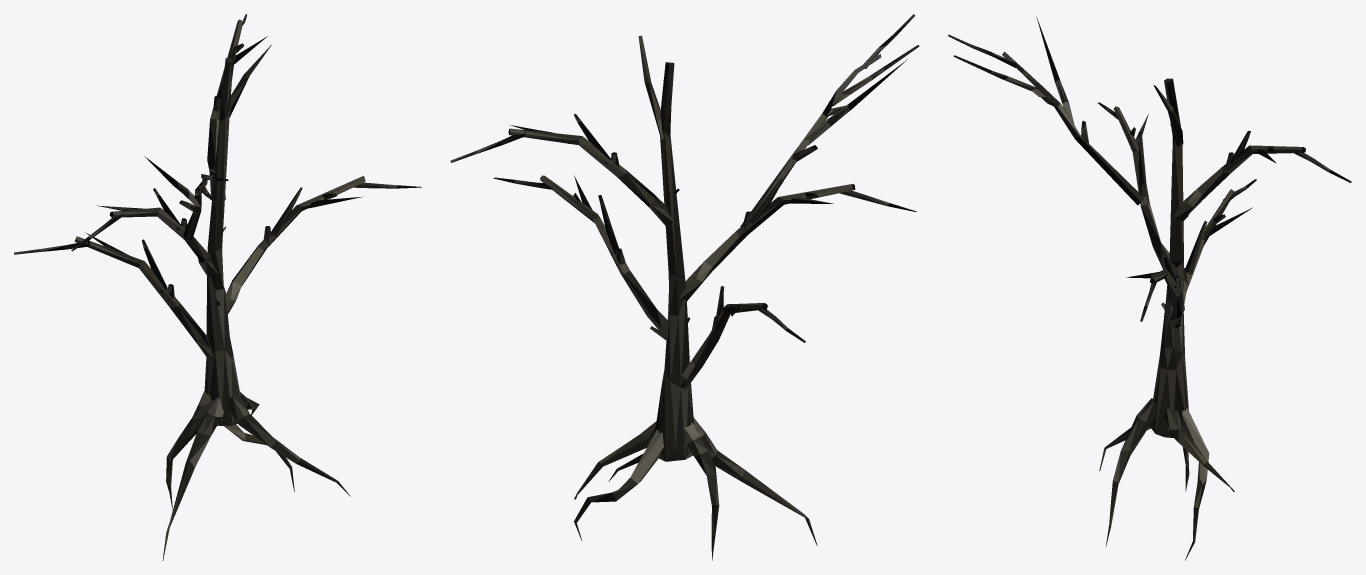
File: DeadTree2.glb
The picture shows the model from 3 angles, left to right: view 1: azimuth 30°, elevation 25°; view 2: azimuth 150°, elevation 25°; view 3: azimuth 270°, elevation 25°; orthographic projection. The views are drawn at different scales.
Visible parts, largest first — view 1: DeadTree21_LOD; view 2: DeadTree21_LOD; view 3: DeadTree21_LOD.
Part boxes in pixels (x1,y1,x2,y2): DeadTree21_LOD: (14,14,421,560); DeadTree21_LOD: (450,14,919,560); DeadTree21_LOD: (948,16,1351,560).
Size of the model in its own units: 91.72 by 110 by 88.27.
